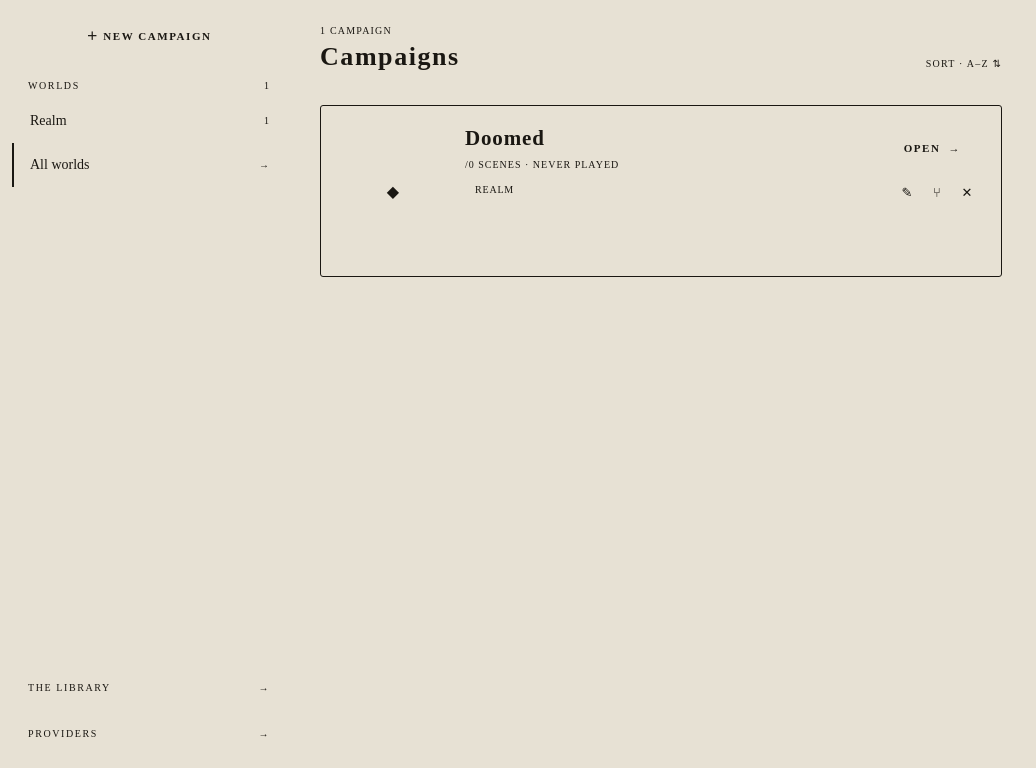
a delete the server refuses is said, not swallowed
expect the link "Doomed" is shown: met, box [465,126,545,150]
Click the button named "delete".
click(967, 192)  # box [953,178,981,206]
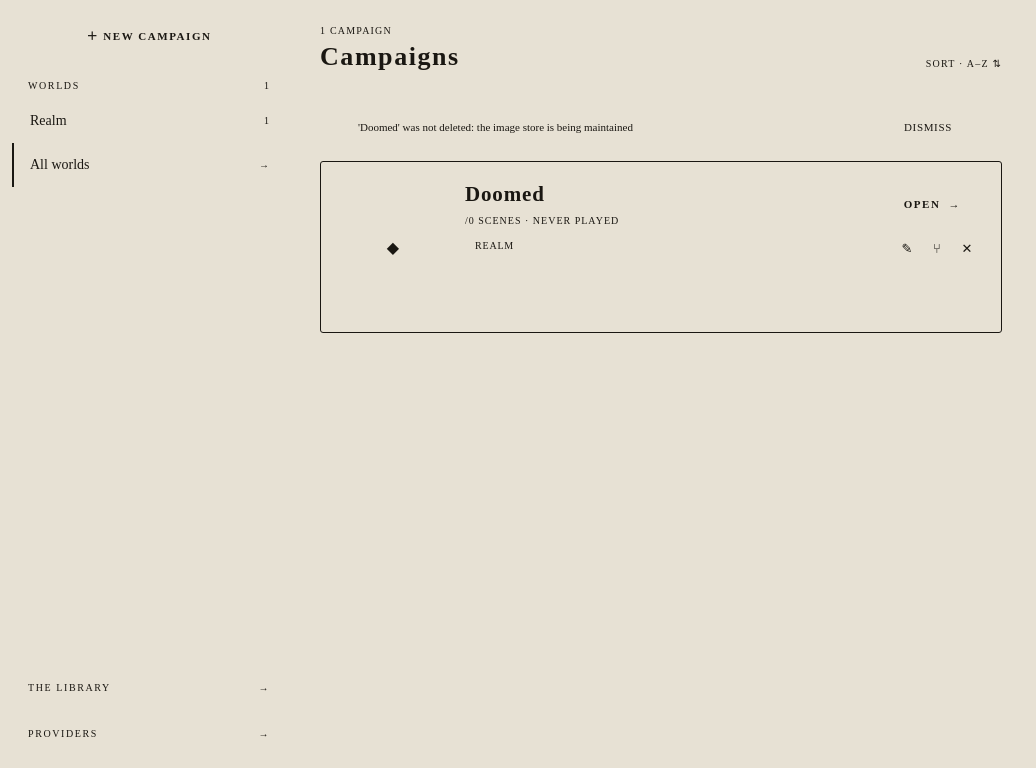
expect the message shows "'Doomed' was not deleted: the image store is being maintained": met, box [358,121,633,133]
Click the button "Dismiss".
click(928, 127)  # box [892,115,964,139]
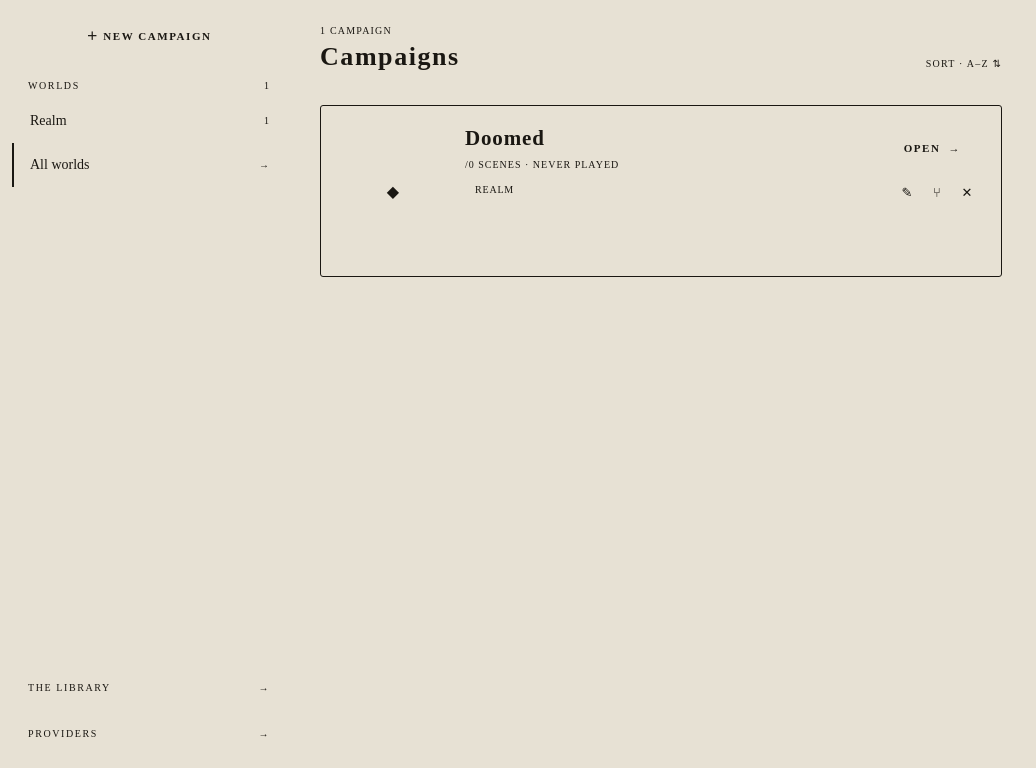
expect the message "'Doomed' was not deleted: the image store is being maintained Dismiss" is gone: met
